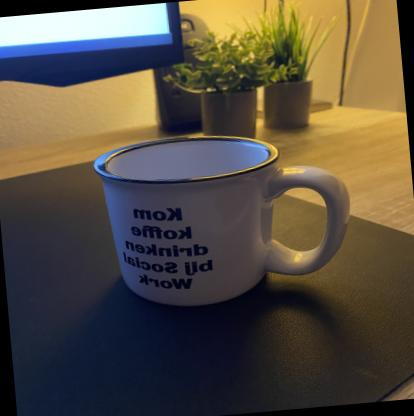Cup: (89, 120, 362, 318)
